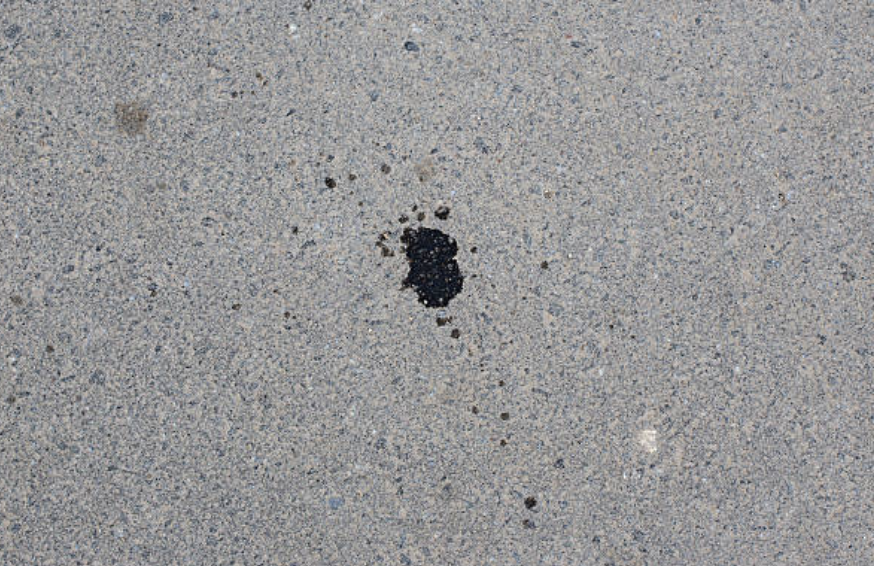oil: (199, 112, 235, 156)
